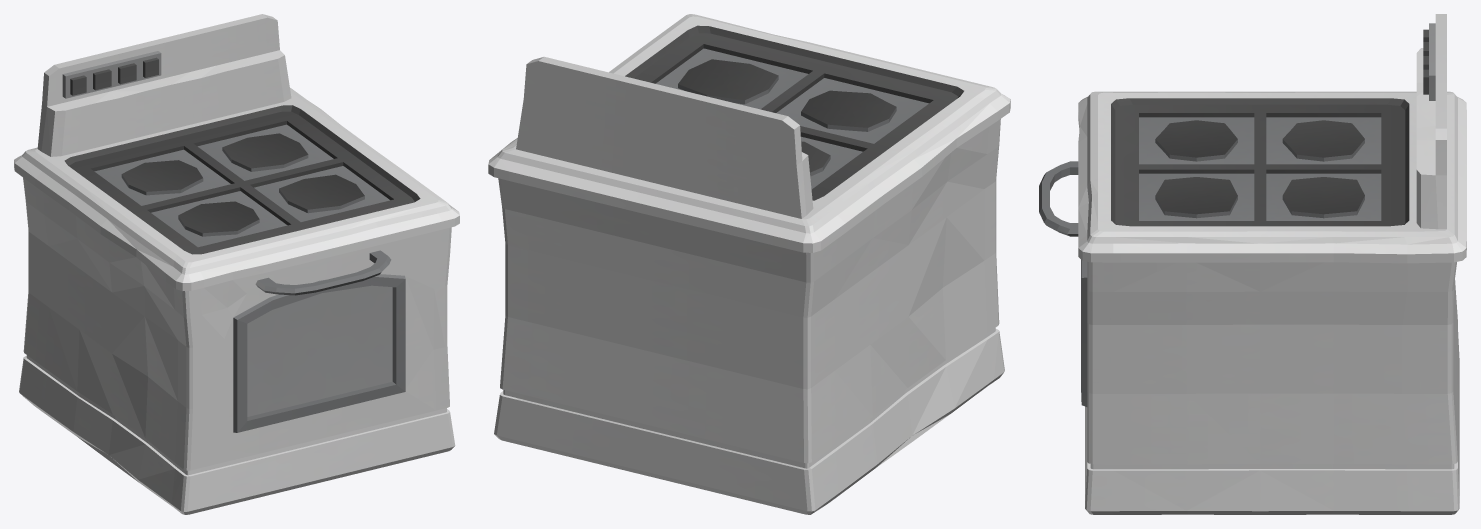
File: oven_1.dae
3 renders of one model, left to right at view 1: azimuth 30°, elevation 25°; view 2: azimuth 150°, elevation 25°; view 3: azimuth 270°, elevation 25°, orthographic. The views are drawn at different scales.
Visible parts, largest first — view 1: oven_1; view 2: oven_1; view 3: oven_1.
Part boxes in pixels (box(x1,y1,x2,y2)): oven_1: box(14, 14, 459, 514); oven_1: box(488, 14, 1010, 514); oven_1: box(1039, 14, 1466, 514).
Size of the model in its own units: 0.9832 by 1.13 by 1.08.
